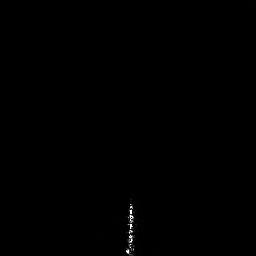ship: (126, 199, 138, 256)
